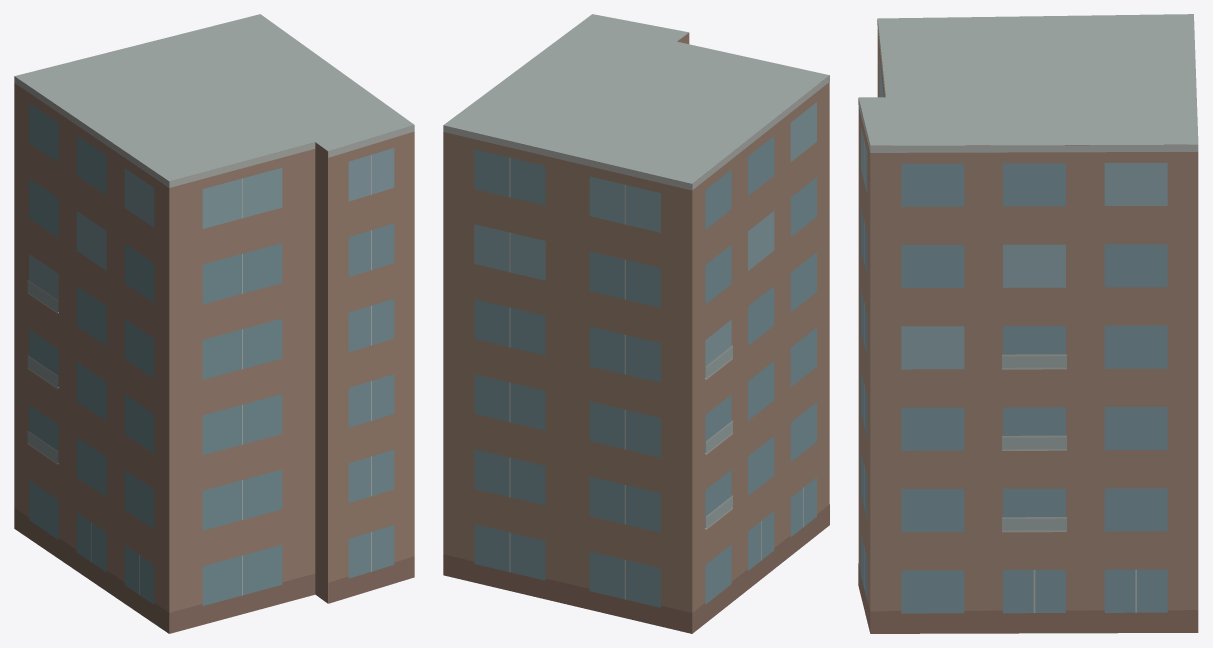
File: survey-upis-32747601.glb
3 views of the same model, side by side, from view 1: azimuth 30°, elevation 25°; view 2: azimuth 150°, elevation 25°; view 3: azimuth 270°, elevation 25° (orthographic). The views are drawn at different scales.
Visible parts, largest first — view 1: survey-upis-32747601.tmp; view 2: survey-upis-32747601.tmp; view 3: survey-upis-32747601.tmp.
Part boxes in pixels (x1,y1,x2,y2): survey-upis-32747601.tmp: (14, 14, 414, 633); survey-upis-32747601.tmp: (443, 14, 829, 633); survey-upis-32747601.tmp: (858, 14, 1198, 633).
Size of the model in its own units: 9.63 by 16.6 by 10.49.
